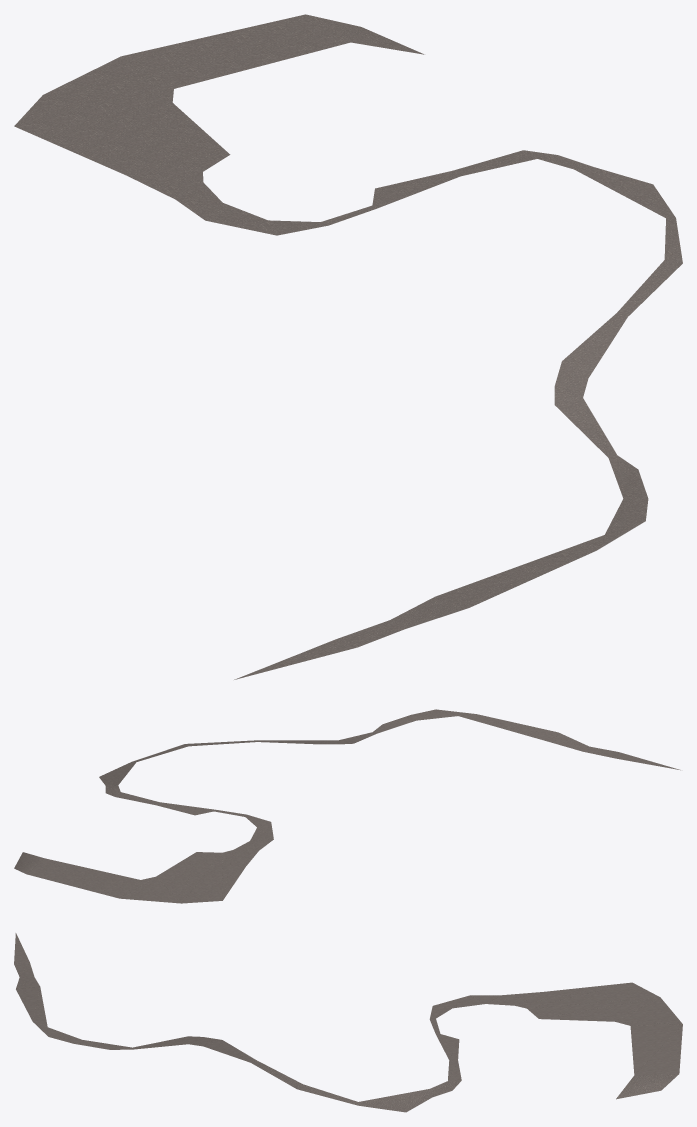
File: kd_stage_135c43_4_139_bounded_piece_1.glb
The picture shows the model from 3 angles, top to bottom: view 1: azimuth 30°, elevation 25°; view 2: azimuth 150°, elevation 25°; view 3: azimuth 270°, elevation 25°; orthographic projection. The views are drawn at different scales.
Visible parts, largest first — view 1: kd_stage_135c43_4_139_bounded_piece_1; view 2: kd_stage_135c43_4_139_bounded_piece_1; view 3: kd_stage_135c43_4_139_bounded_piece_1.
Boxes of the visible parts, box(x1,y1,x2,y2) form: kd_stage_135c43_4_139_bounded_piece_1: box(14, 14, 682, 679); kd_stage_135c43_4_139_bounded_piece_1: box(14, 709, 680, 903); kd_stage_135c43_4_139_bounded_piece_1: box(14, 933, 682, 1112).
Size of the model in its own units: 4.97 by 0.4463 by 6.67.
Materials: 1 (1 with a texture image).
